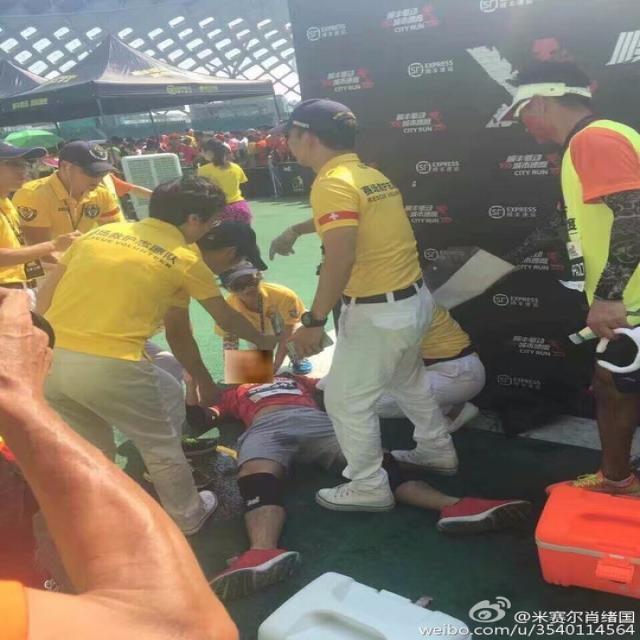10-: (0, 51, 639, 638)
down: (155, 311, 544, 609)
